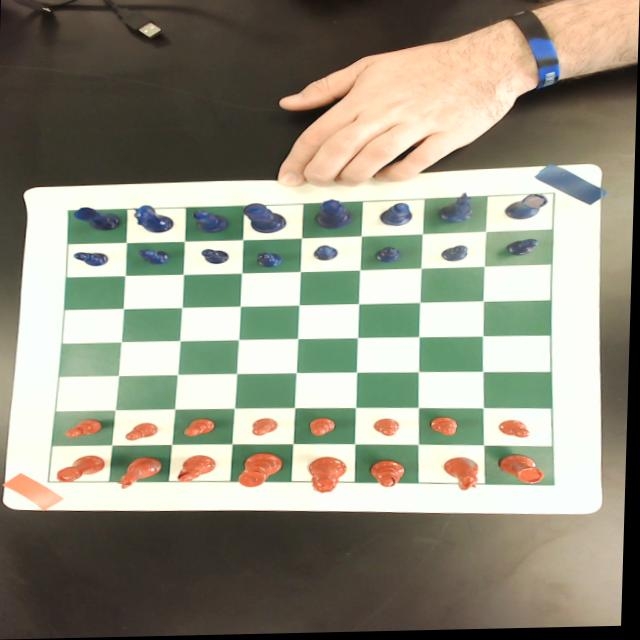B: (193, 211, 230, 235), (379, 204, 413, 228)
K: (242, 204, 288, 235)
N: (133, 205, 176, 234), (437, 195, 476, 225)
P: (135, 248, 171, 267), (73, 251, 109, 268), (507, 240, 539, 259), (201, 248, 231, 266), (440, 247, 471, 264), (373, 248, 404, 265), (256, 253, 284, 269), (313, 246, 339, 262)
Q: (313, 200, 353, 231)
R: (72, 206, 122, 232), (503, 195, 548, 222)
b: (180, 457, 218, 484), (371, 462, 408, 489)
cb: (50, 196, 556, 488)
k: (240, 454, 285, 489)
n: (117, 457, 164, 490), (443, 459, 484, 492)
p: (65, 419, 105, 439), (125, 423, 160, 442), (185, 419, 218, 439), (500, 422, 534, 441), (431, 418, 461, 439), (253, 419, 280, 438), (311, 419, 338, 438), (374, 420, 401, 438)
q: (308, 458, 349, 495)
r: (499, 456, 549, 489), (58, 455, 107, 484)
